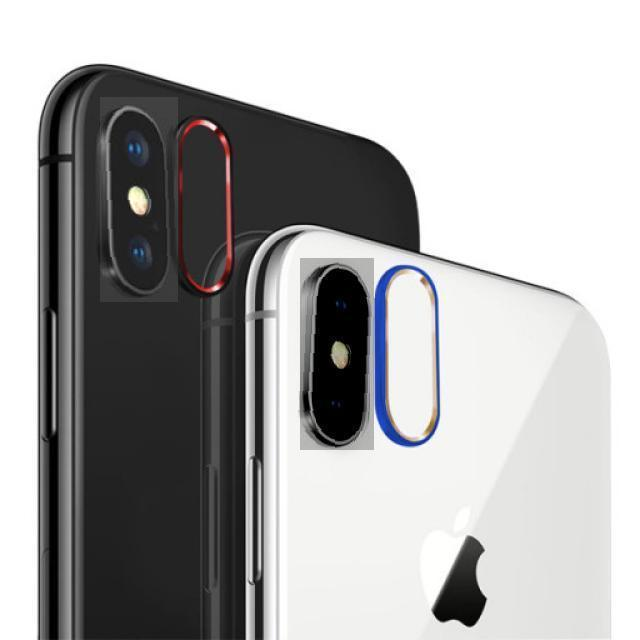Mobile: (43, 61, 420, 640), (231, 217, 640, 639)
